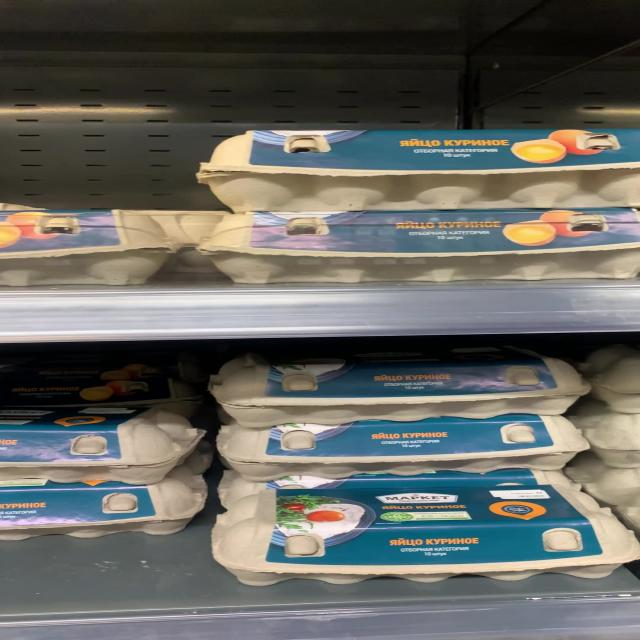egg box: (222, 480, 634, 584), (199, 125, 634, 209), (199, 203, 637, 286), (199, 356, 596, 417), (220, 413, 592, 476)
